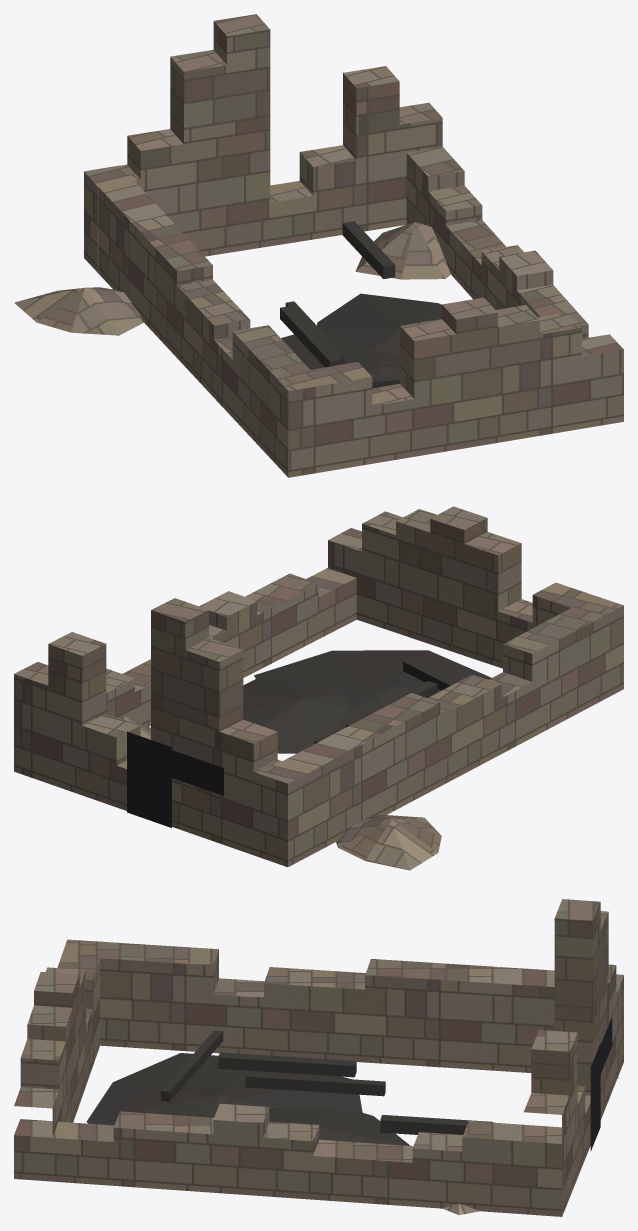
The picture shows the model from 3 angles, top to bottom: view 1: azimuth 30°, elevation 25°; view 2: azimuth 150°, elevation 25°; view 3: azimuth 270°, elevation 25°; orthographic projection. The views are drawn at different scales.
Parts seen in each view (by area): view 1: b001082_ruin_wall, b001082_ruin_char; view 2: b001082_ruin_wall, b001082_ruin_char, b001082_ruin_glass; view 3: b001082_ruin_wall, b001082_ruin_char, b001082_ruin_glass.
Part boxes in pixels (x1,y1,x2,y2): b001082_ruin_wall: [14, 14, 623, 477]; b001082_ruin_char: [280, 221, 441, 388]; b001082_ruin_wall: [14, 506, 623, 870]; b001082_ruin_char: [243, 650, 491, 753]; b001082_ruin_glass: [127, 731, 223, 827]; b001082_ruin_wall: [14, 899, 623, 1216]; b001082_ruin_char: [86, 1030, 492, 1145]; b001082_ruin_glass: [590, 1017, 612, 1151].
Size of the model in its own units: 7.53 by 3.75 by 9.49.
Materials: 3 (1 with a texture image).
